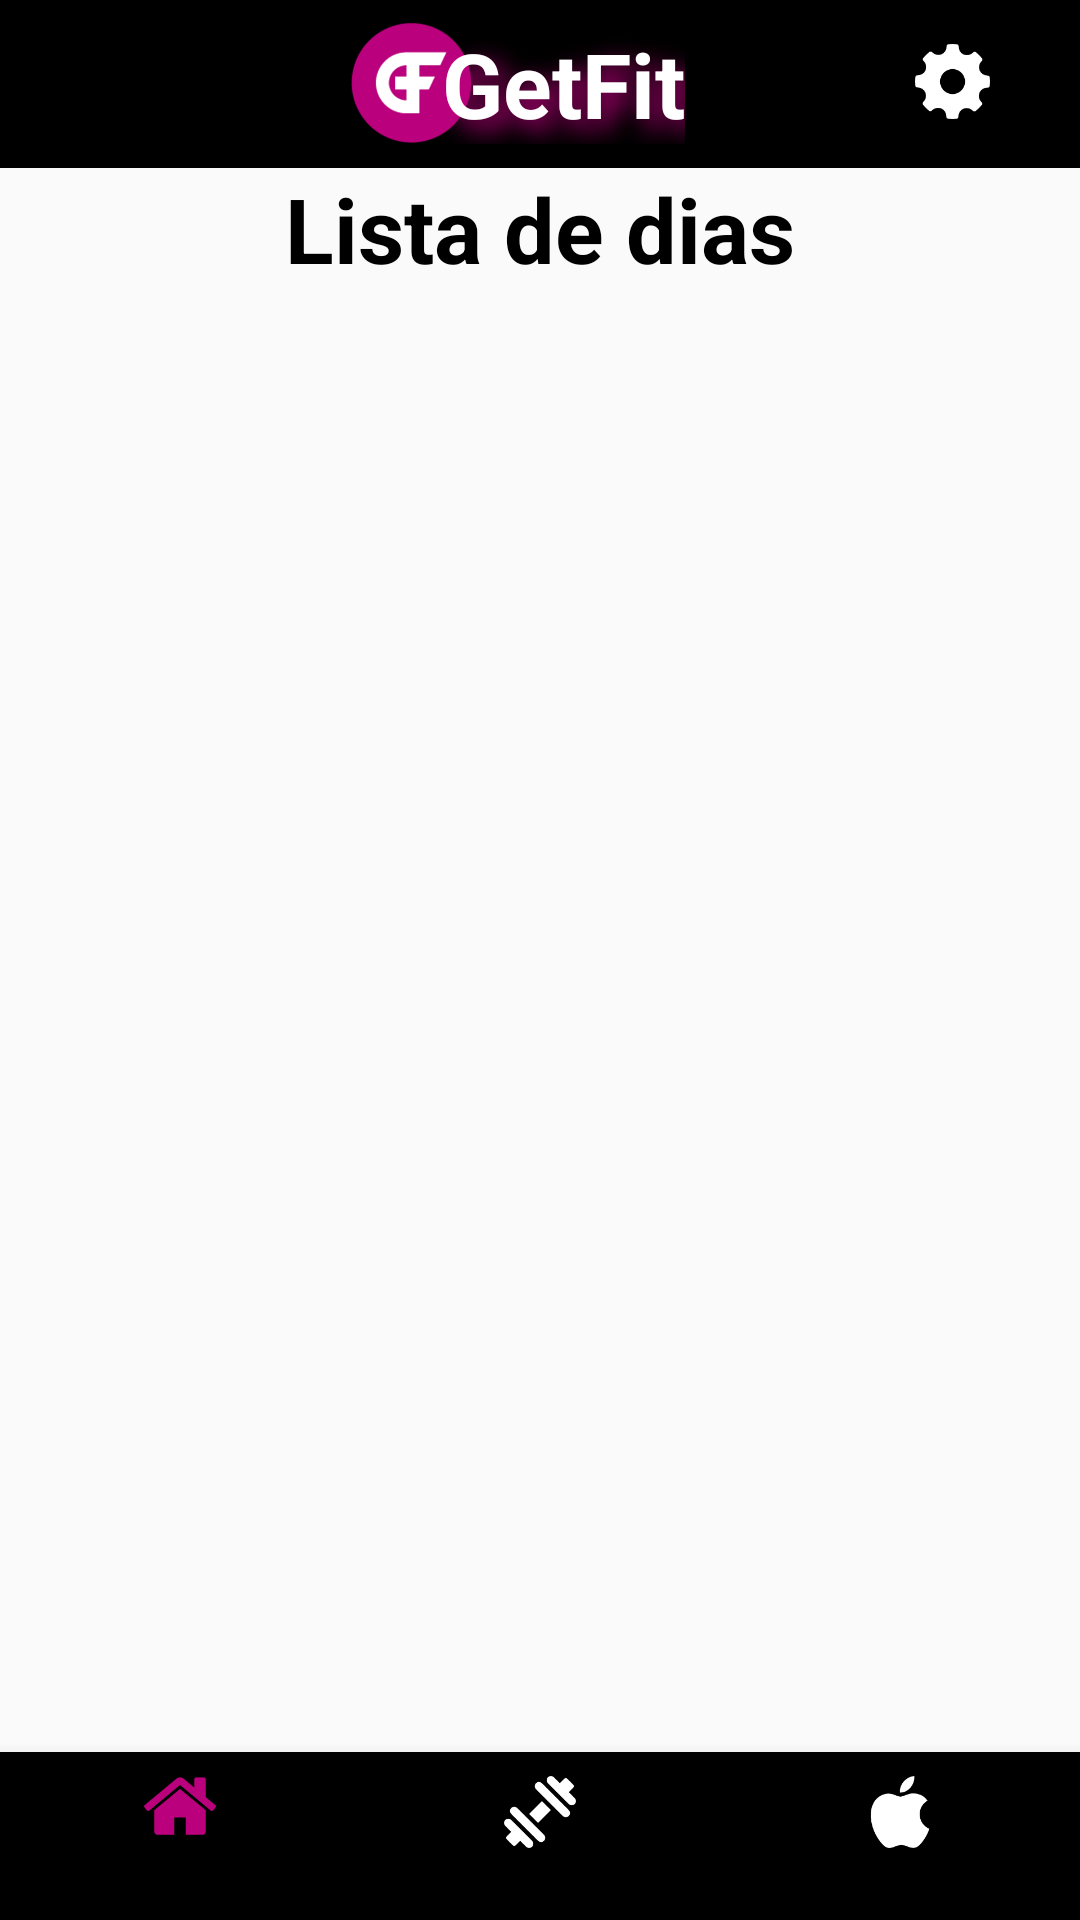

Point at icon controls on the screen. Image size 1080w x 1920h, points as (x=x, y=y).
ajustes: (x=952, y=81)
